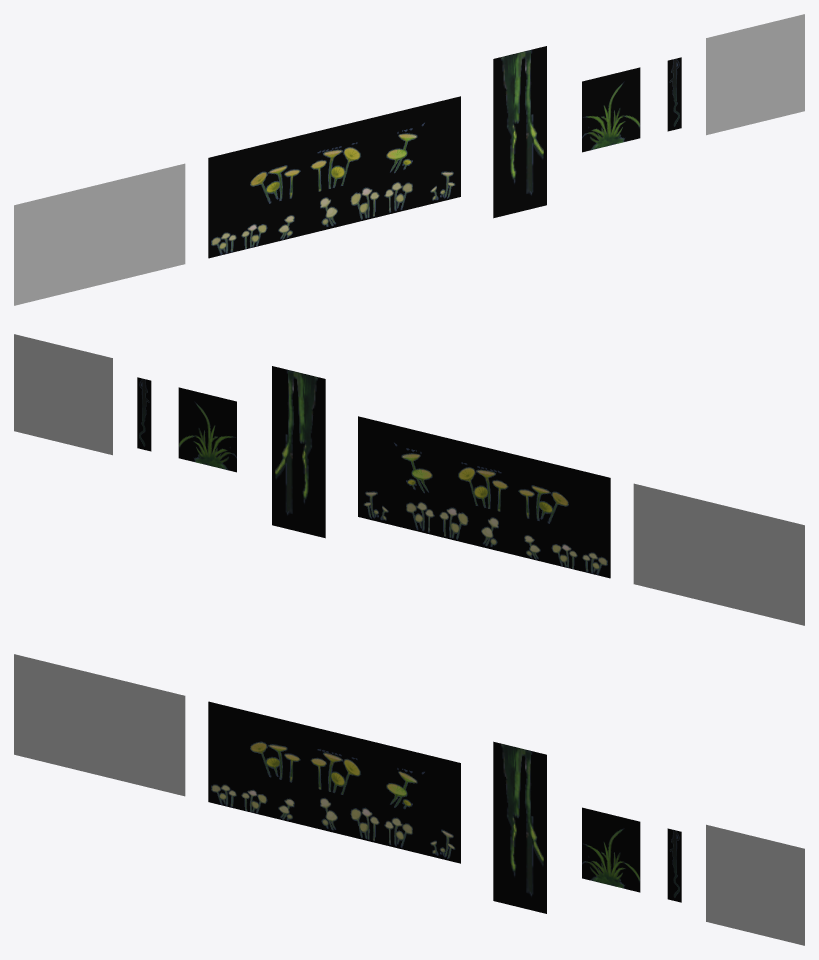
File: cao.FBX
3 views of the same model, one above another, from view 1: azimuth 30°, elevation 25°; view 2: azimuth 150°, elevation 25°; view 3: azimuth 330°, elevation 25° (orthographic).
Parts seen in each view (by area): view 1: cao05, cao06, cao01, cao03_ncl1_1, cao03, cao02; view 2: cao05, cao06, cao01, cao03_ncl1_1, cao03, cao02; view 3: cao05, cao06, cao01, cao03_ncl1_1, cao03, cao02.
Part boxes in pixels (x1,y1,x2,y2): cao05: [208, 96, 460, 258]; cao06: [14, 163, 185, 305]; cao01: [706, 14, 804, 135]; cao03_ncl1_1: [493, 46, 546, 218]; cao03: [582, 67, 640, 152]; cao02: [667, 57, 681, 131]; cao05: [358, 416, 610, 578]; cao06: [633, 483, 804, 625]; cao01: [14, 334, 112, 455]; cao03_ncl1_1: [272, 366, 325, 538]; cao03: [178, 387, 236, 472]; cao02: [137, 377, 151, 451]; cao05: [208, 701, 460, 863]; cao06: [14, 654, 185, 796]; cao01: [706, 824, 804, 945]; cao03_ncl1_1: [493, 741, 546, 913]; cao03: [582, 807, 640, 892]; cao02: [667, 828, 681, 902].
Bounding box in the file's own units: 4.26 × 0.82 × 2.92e-07.
